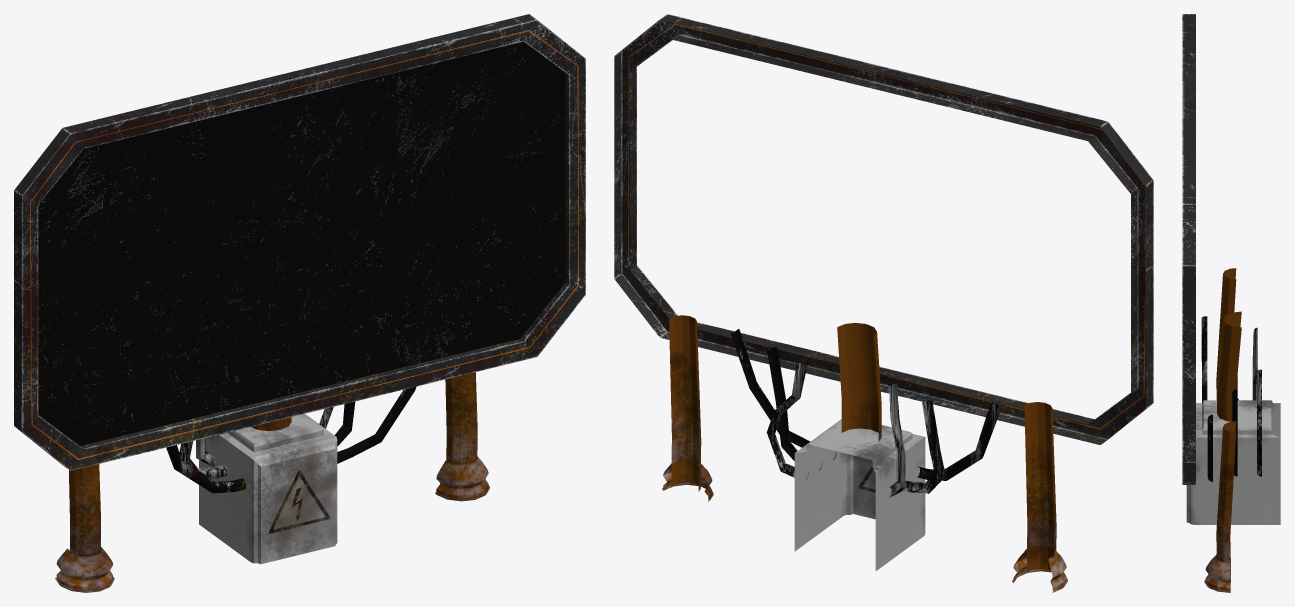
The model's file is Terminal_sala_nucleo.fbx.
The picture shows the model from 3 angles, left to right: view 1: azimuth 30°, elevation 25°; view 2: azimuth 150°, elevation 25°; view 3: azimuth 270°, elevation 25°; orthographic projection. The views are drawn at different scales.
Visible parts, largest first — view 1: Pantalla, marco, base, izq1, izq, maybe1, maybe2, cable5, cable2; view 2: marco, base, izq1, izq, soporte, cable3, cable2, cable4, cable5, cable6, cable1, maybe1; view 3: base, marco, izq1, soporte, izq, maybe2, cable2, cable4, cable5, cable1, cable6.
Boxes of the visible parts, x1,y1,x2,y2 form: Pantalla: (38, 41, 565, 445); marco: (14, 14, 585, 470); base: (199, 414, 337, 564); izq1: (445, 372, 477, 464); izq: (69, 464, 100, 555); maybe1: (55, 547, 114, 592); maybe2: (435, 456, 489, 501); cable5: (337, 386, 416, 463); cable2: (166, 445, 245, 493); marco: (614, 14, 1153, 444); base: (794, 419, 925, 570); izq1: (669, 315, 701, 491); izq: (1024, 402, 1056, 571); soporte: (837, 323, 881, 441); cable3: (903, 400, 945, 493); cable2: (917, 400, 1002, 480); cable4: (766, 363, 808, 480); cable5: (731, 329, 836, 459); cable6: (767, 347, 822, 470); cable1: (889, 383, 905, 497); maybe1: (1012, 549, 1067, 592); base: (1186, 400, 1280, 524); marco: (1182, 14, 1195, 484); izq1: (1216, 421, 1236, 581); soporte: (1217, 311, 1241, 421); izq: (1216, 268, 1236, 399); maybe2: (1204, 554, 1230, 592); cable2: (1201, 316, 1207, 402); cable4: (1257, 369, 1261, 476); cable5: (1207, 414, 1212, 481); cable1: (1252, 327, 1257, 400); cable6: (1232, 389, 1237, 476).
Bounding box in the file's own units: 2.83 × 2.3 × 0.5119.
Materials: 2 (2 with a texture image).
